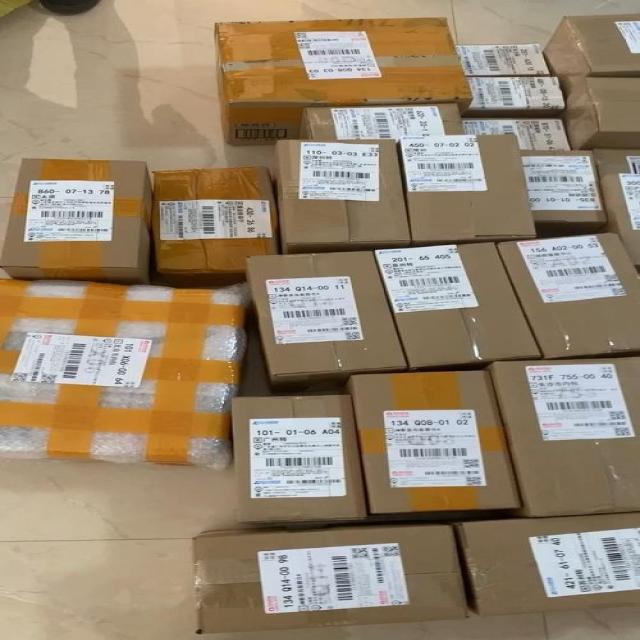Carton: (148, 168, 408, 378), (0, 281, 237, 453), (196, 525, 465, 634), (349, 368, 512, 513), (497, 358, 639, 512), (219, 17, 468, 104), (378, 241, 544, 366), (463, 515, 639, 613), (500, 233, 639, 355), (229, 397, 362, 518), (3, 158, 138, 266), (401, 134, 532, 240), (282, 143, 406, 243), (518, 148, 604, 218), (468, 43, 559, 105), (307, 105, 456, 141)
